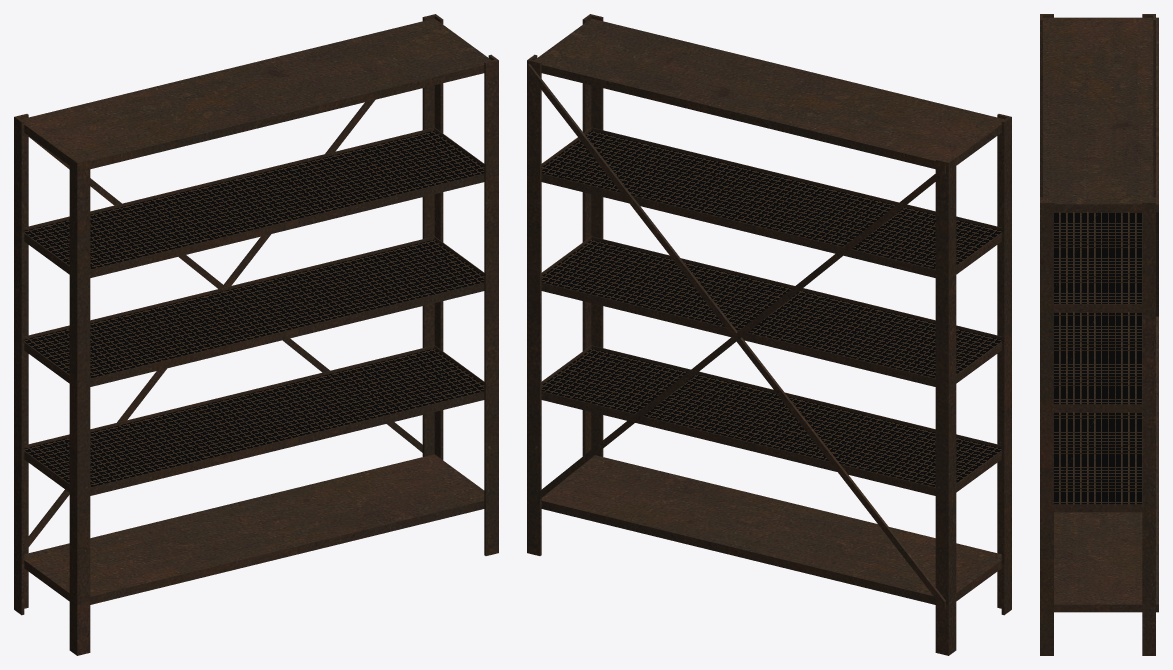
Rendered from shelf_mx_4.obj.
3 renders of one model, left to right at view 1: azimuth 30°, elevation 25°; view 2: azimuth 150°, elevation 25°; view 3: azimuth 270°, elevation 25°, orthographic. The views are drawn at different scales.
Parts seen in each view (by area): view 1: shelf_mx_4; view 2: shelf_mx_4; view 3: shelf_mx_4.
Part boxes in pixels (<box>): shelf_mx_4: <box>14,14,498,655</box>; shelf_mx_4: <box>527,14,1011,655</box>; shelf_mx_4: <box>1040,14,1158,655</box>.
Size of the model in its own units: 1.62 by 1.81 by 0.43.
